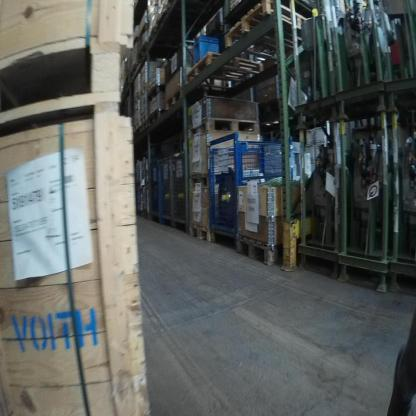pallet: (3, 32, 136, 141), (221, 5, 320, 65), (186, 42, 279, 99), (188, 117, 261, 146), (236, 237, 275, 272), (164, 87, 190, 115), (185, 223, 215, 245), (188, 169, 211, 194), (136, 40, 151, 66), (144, 83, 158, 105), (140, 107, 151, 131), (149, 110, 164, 125)
stillage: (210, 128, 291, 249), (172, 146, 188, 231), (159, 149, 175, 226), (221, 1, 265, 25), (147, 151, 161, 224)
